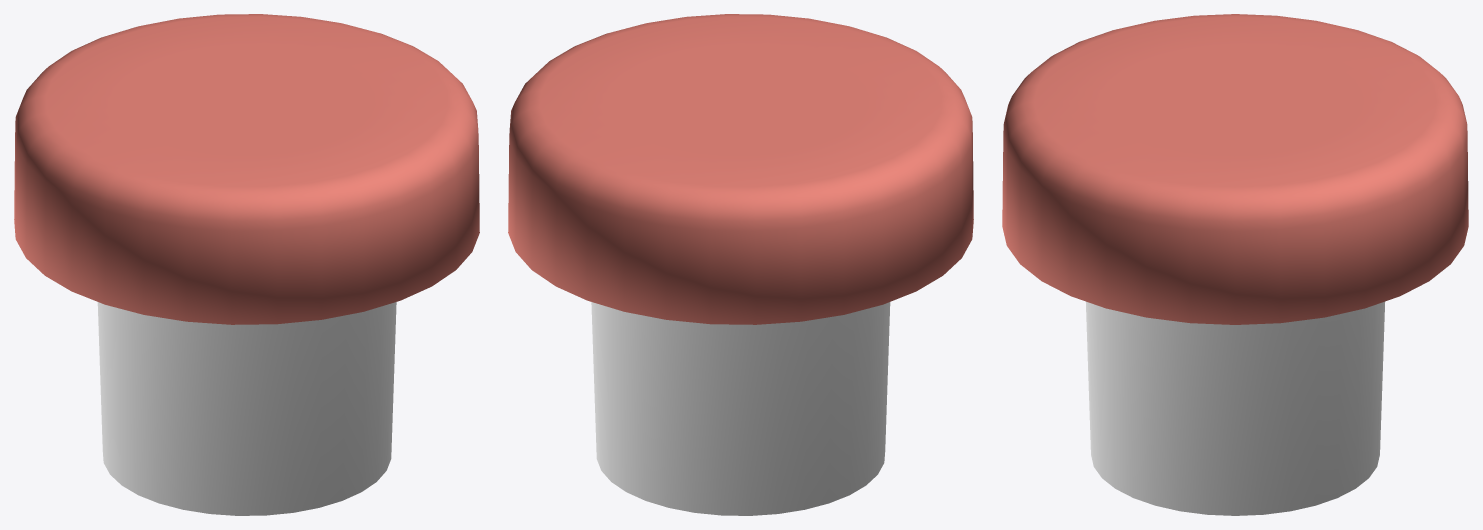
File: Cork_02.fbx
3 renders of one model, left to right at view 1: azimuth 30°, elevation 25°; view 2: azimuth 150°, elevation 25°; view 3: azimuth 270°, elevation 25°, orthographic.
Visible parts, largest first — view 1: Cork.001; view 2: Cork.001; view 3: Cork.001.
Boxes of the visible parts, x1,y1,x2,y2 form: Cork.001: (14,14,479,515); Cork.001: (508,14,973,515); Cork.001: (1002,14,1468,515).
Size of the model in its own units: 216 by 180 by 216.
